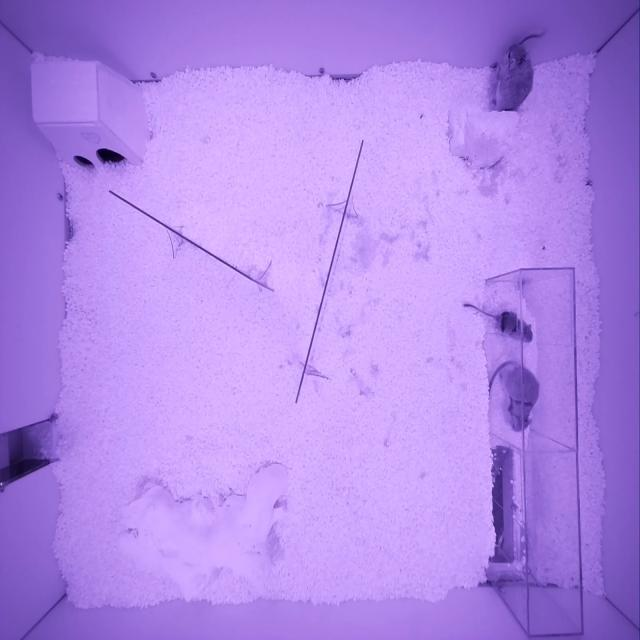adult_back: (493, 44, 534, 110)
adult_front: (506, 367, 541, 430)
pup_h_stripe: (497, 311, 533, 342)
